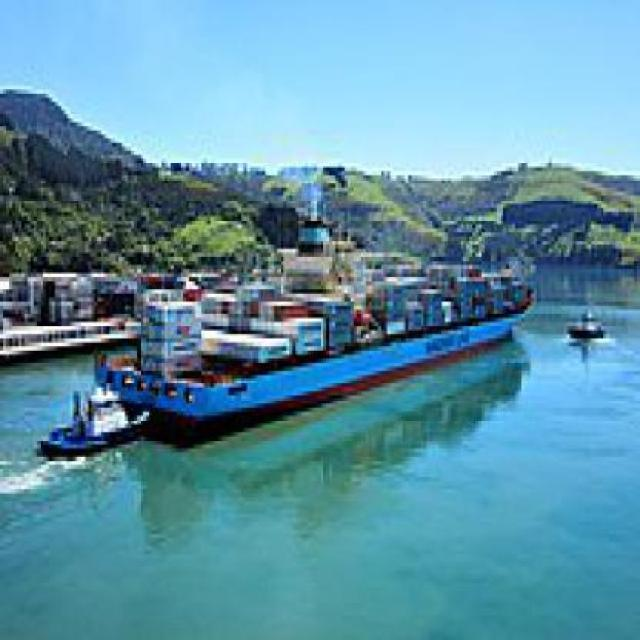container: (93, 160, 540, 462)
